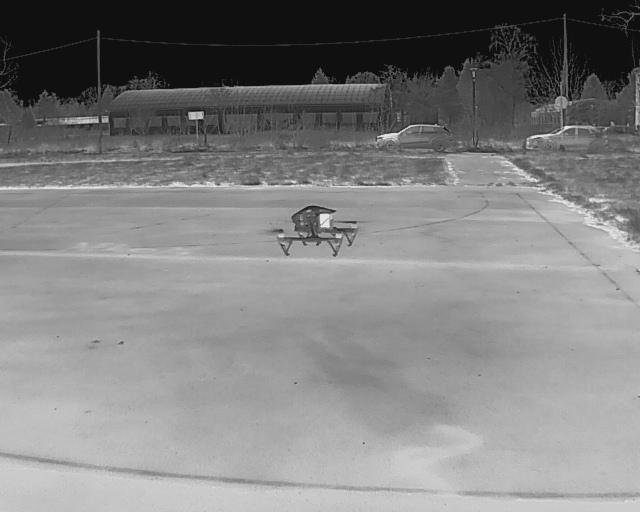drone: (258, 194, 373, 266)
